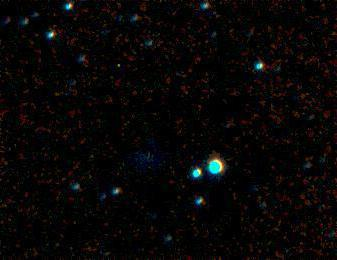star: (102, 51, 132, 81)
